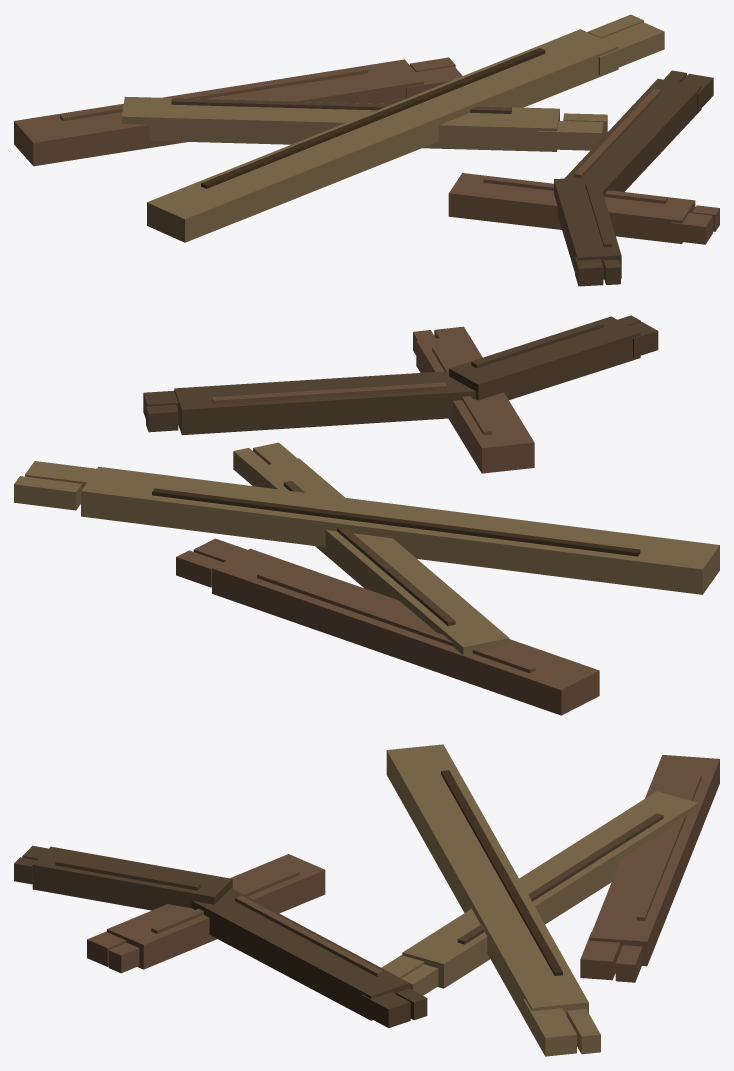
File: CMU3DDecorFloorScrapwoodNorth.glb
3 renders of one model, top to bottom at view 1: azimuth 30°, elevation 25°; view 2: azimuth 150°, elevation 25°; view 3: azimuth 270°, elevation 25°, orthographic. The views are drawn at different scales.
Visible parts, largest first — view 1: plank 3 body, plank 2 body, plank 1 body, plank 4 body, plank 5 body, plank 6 body, plank 3 long grain, plank 3 splintered end, plank 2 long grain, plank 1 long grain, plank 2 splintered end, plank 4 splintered end (+7 smaller); view 2: plank 3 body, plank 1 body, plank 5 body, plank 2 body, plank 6 body, plank 4 body, plank 3 long grain, plank 1 long grain, plank 3 short fracture tooth, plank 5 long grain, plank 2 long grain, plank 6 long grain (+7 smaller); view 3: plank 3 body, plank 2 body, plank 1 body, plank 5 body, plank 6 body, plank 4 body, plank 3 long grain, plank 3 splintered end, plank 2 long grain, plank 5 long grain, plank 1 splintered end, plank 1 long grain (+10 smaller).
Boxes of the visible parts, x1,y1,x2,y2 form: plank 3 body: [147, 29, 618, 242]; plank 2 body: [122, 96, 559, 151]; plank 1 body: [14, 59, 423, 166]; plank 4 body: [448, 173, 695, 243]; plank 5 body: [564, 79, 701, 197]; plank 6 body: [554, 177, 621, 279]; plank 3 long grain: [201, 48, 545, 188]; plank 3 splintered end: [598, 22, 664, 74]; plank 2 long grain: [171, 98, 511, 113]; plank 1 long grain: [60, 67, 368, 121]; plank 2 splintered end: [537, 121, 603, 150]; plank 4 splintered end: [670, 213, 712, 244]; plank 3 body: [81, 466, 719, 594]; plank 1 body: [212, 548, 599, 715]; plank 5 body: [174, 371, 475, 435]; plank 2 body: [253, 458, 509, 655]; plank 6 body: [449, 316, 640, 400]; plank 4 body: [416, 335, 534, 473]; plank 3 long grain: [152, 488, 640, 556]; plank 1 long grain: [257, 572, 535, 673]; plank 3 short fracture tooth: [14, 476, 81, 510]; plank 5 long grain: [212, 382, 446, 404]; plank 2 long grain: [283, 481, 455, 626]; plank 6 long grain: [471, 321, 603, 368]; plank 3 body: [386, 744, 588, 1017]; plank 2 body: [402, 791, 698, 988]; plank 1 body: [589, 755, 719, 966]; plank 5 body: [191, 888, 409, 1020]; plank 6 body: [32, 846, 232, 910]; plank 4 body: [107, 854, 325, 969]; plank 3 long grain: [441, 770, 562, 975]; plank 3 splintered end: [523, 999, 576, 1056]; plank 2 long grain: [457, 813, 663, 944]; plank 5 long grain: [235, 895, 383, 976]; plank 1 splintered end: [580, 932, 620, 980]; plank 1 long grain: [636, 774, 701, 920].
Size of the model in its own units: 0.7471 by 0.078 by 0.7545.
